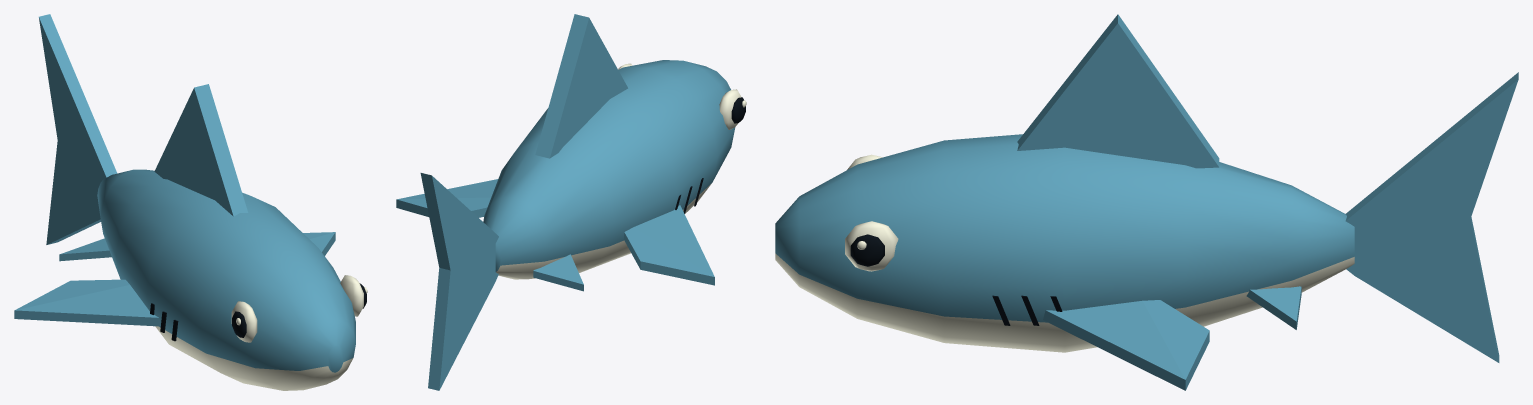
File: BabyReefShark.obj
3 views of the same model, side by side, from view 1: azimuth 30°, elevation 25°; view 2: azimuth 150°, elevation 25°; view 3: azimuth 270°, elevation 25° (orthographic). The views are drawn at different scales.
Visible parts, largest first — view 1: BabyReefShark; view 2: BabyReefShark; view 3: BabyReefShark.
Part boxes in pixels (x1=…): BabyReefShark: x1=14, y1=14, x2=367, y2=390; BabyReefShark: x1=396, y1=14, x2=746, y2=390; BabyReefShark: x1=775, y1=14, x2=1518, y2=390.
Size of the model in its own units: 0.98 by 0.78 by 1.54.
